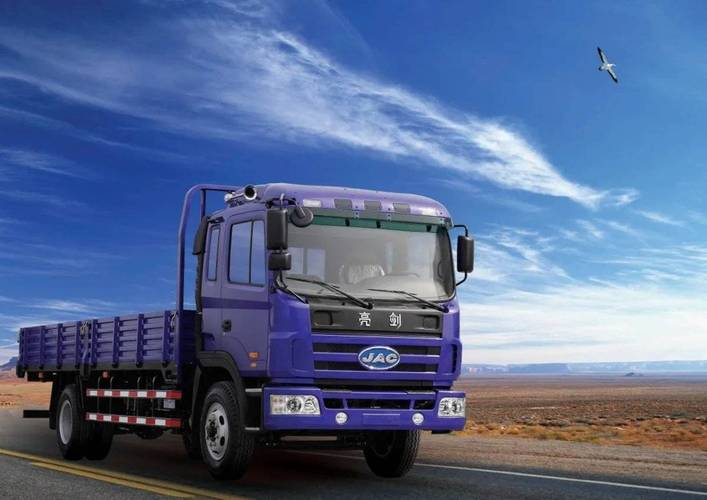卡车: (12, 165, 476, 481)
